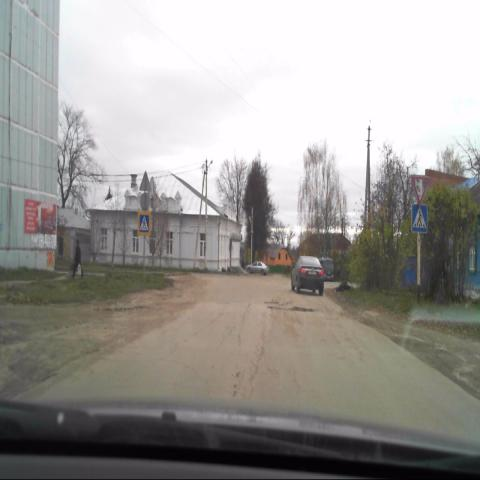2_4: (412, 176, 428, 203)
